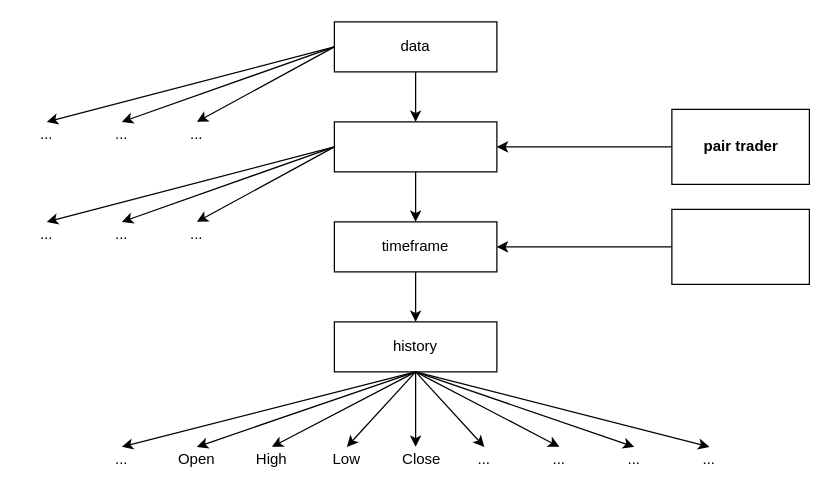
The diagram is 831 pixels wide and 494 high, and some of its shapes have lost their labels. Each missing label, with the centre of its shape:
"indicator" belongs at (740,246).
"pair" belongs at (415,146).
